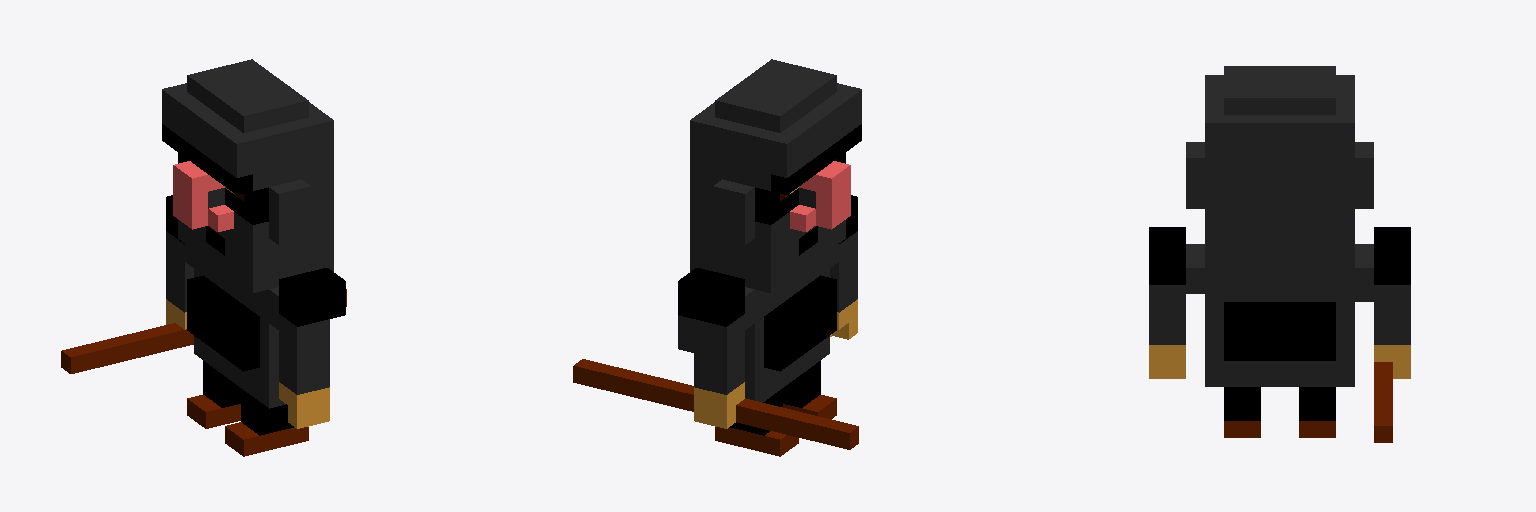
The picture shows the model from 3 angles: view 1: azimuth 30°, elevation 25°; view 2: azimuth 150°, elevation 25°; view 3: azimuth 270°, elevation 25°; orthographic projection.
Visible parts, largest first — view 1: object 1; view 2: object 1; view 3: object 1.
Part boxes in pixels (x1,y1,x2,y2): object 1: (61, 59, 346, 456); object 1: (573, 59, 861, 456); object 1: (1149, 66, 1410, 442).
Size of the model in its own units: 1.7 by 2 by 1.4.
1 materials, 1 textured.